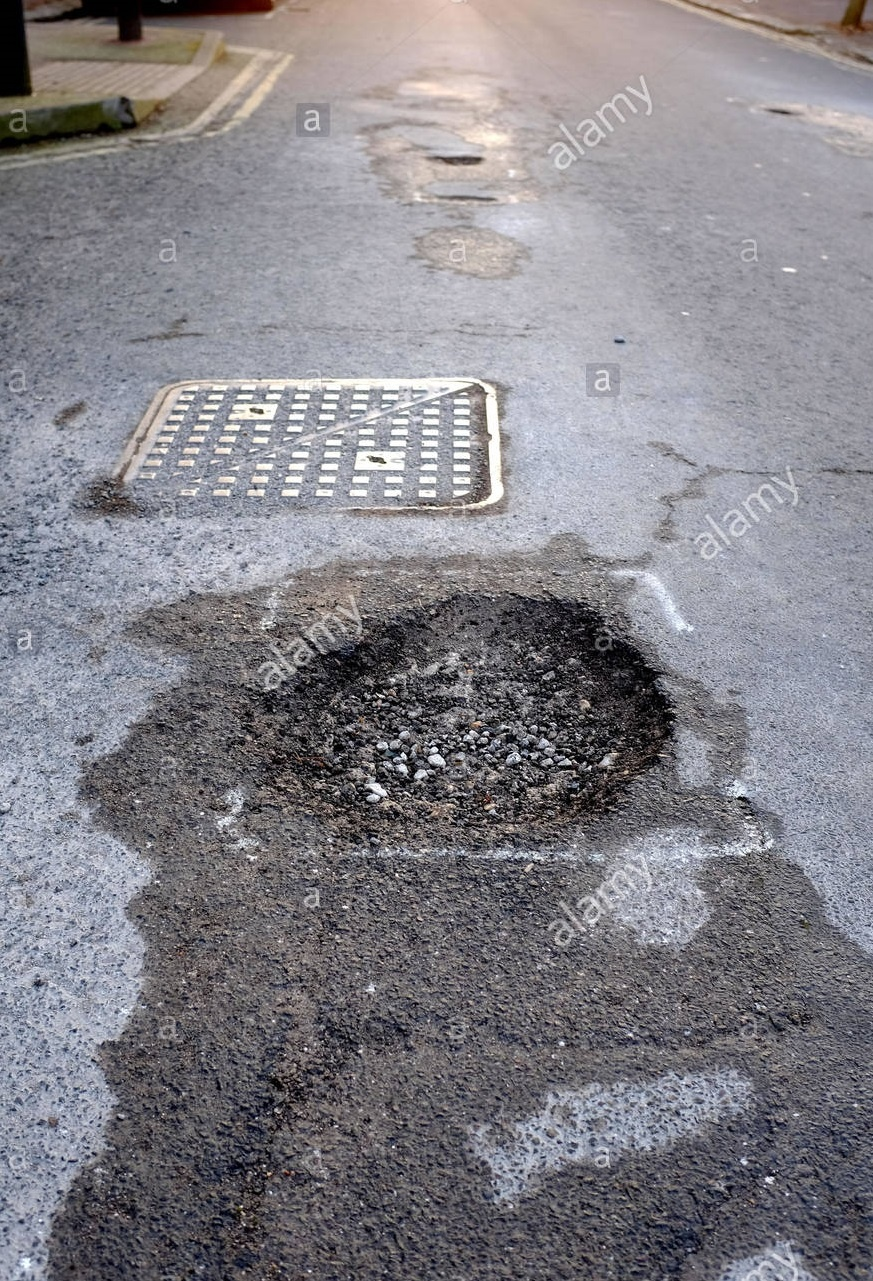pothole: (197, 518, 819, 896)
